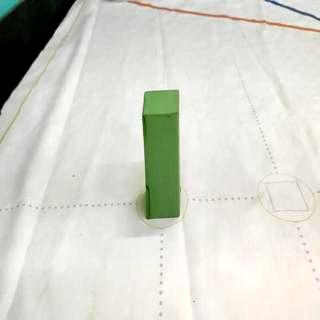greenbox: (142, 88, 183, 220)
